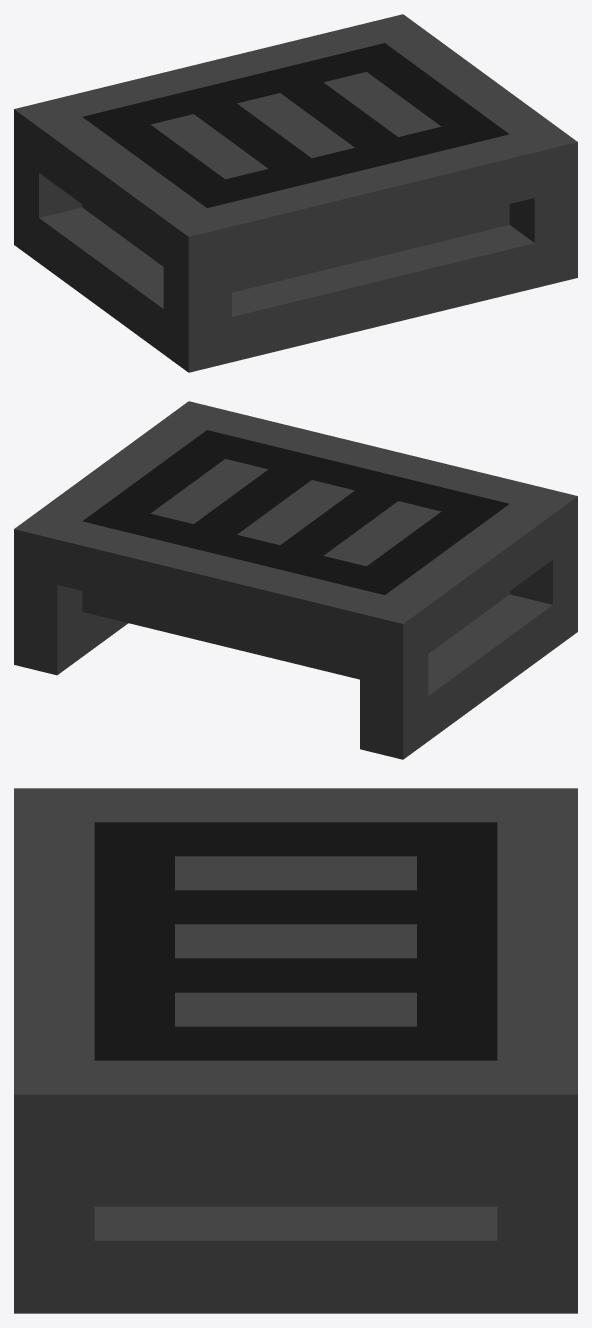
The model's file is waffle machine.obj.
3 renders of one model, top to bottom at view 1: azimuth 30°, elevation 25°; view 2: azimuth 150°, elevation 25°; view 3: azimuth 270°, elevation 25°, orthographic. The views are drawn at different scales.
Visible parts, largest first — view 1: waffle machine; view 2: waffle machine; view 3: waffle machine.
Part boxes in pixels (box(x1,y1,x2,y2)): waffle machine: box(14, 14, 577, 372); waffle machine: box(14, 401, 577, 759); waffle machine: box(14, 788, 577, 1313).
Size of the model in its own units: 9 by 3 by 7.
Materials: 1 (1 with a texture image).
